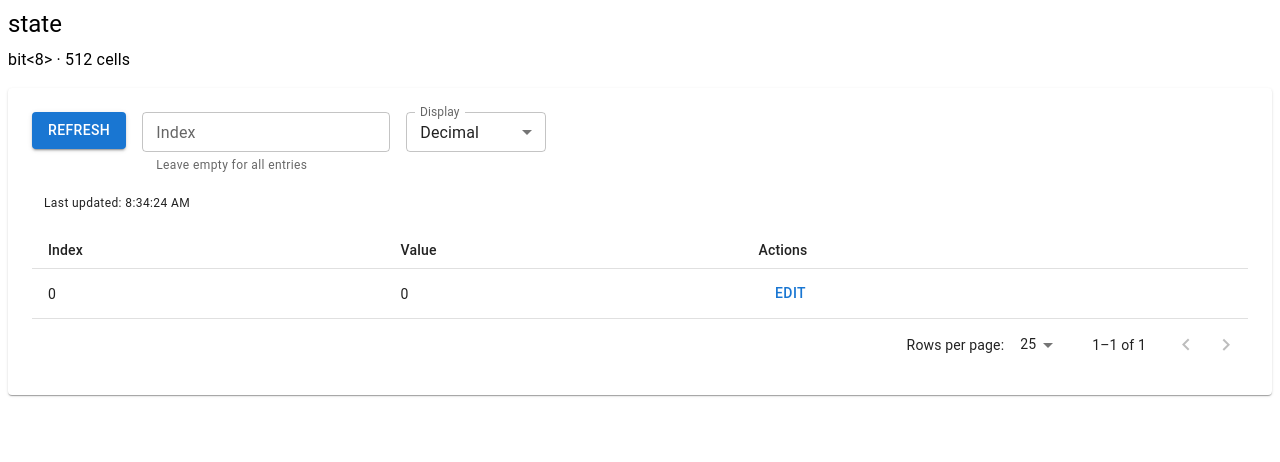
Test: indexed resources › rejects overflow before issuing a write
Click the button "Edit" at (790, 294), box [758, 275, 822, 312]
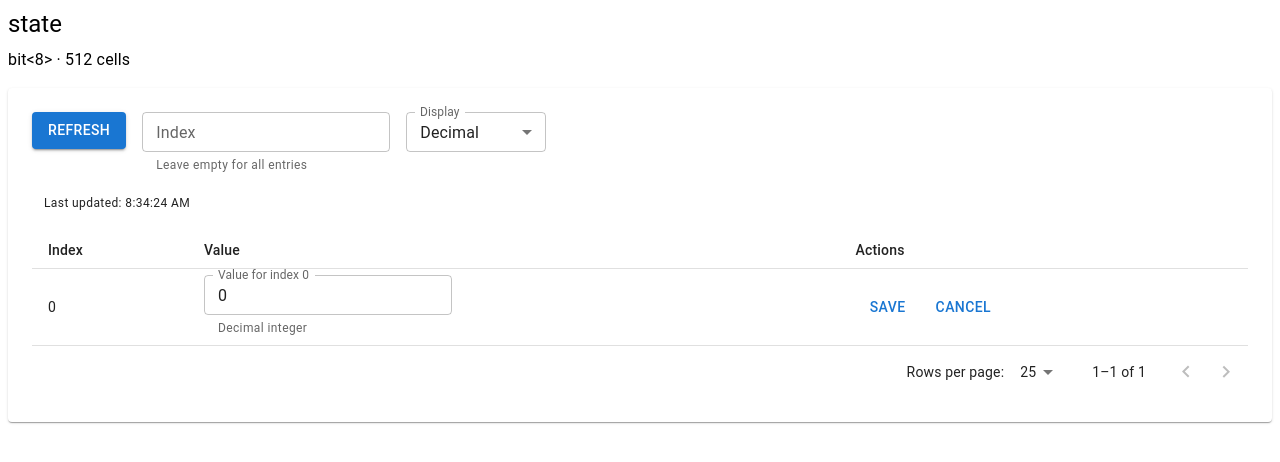
Replace the text in the field labelled "Value for index 0" with "256" at (328, 295), box [204, 275, 452, 315]
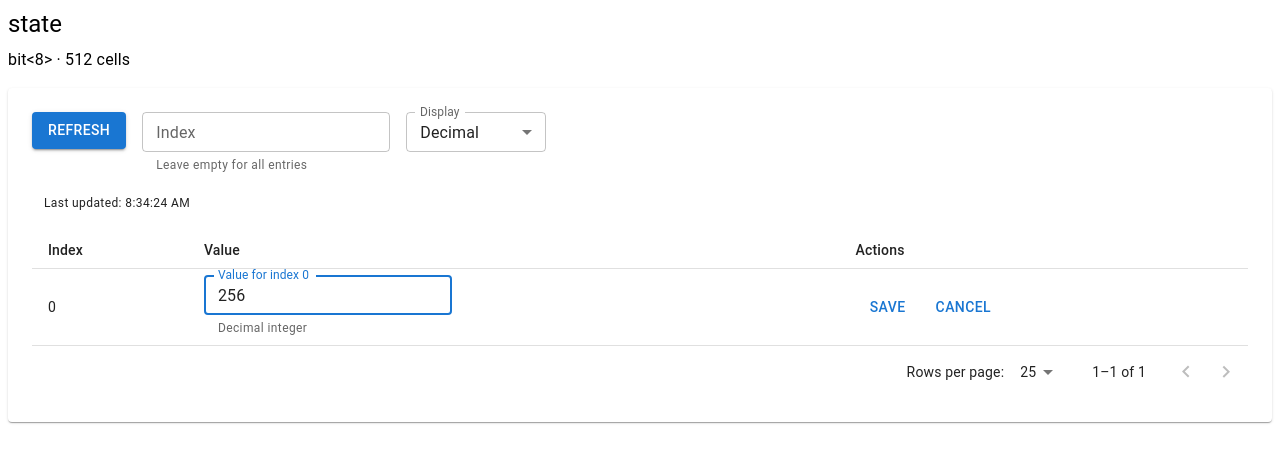
Click the button "Save" at (888, 307), box [856, 289, 920, 326]
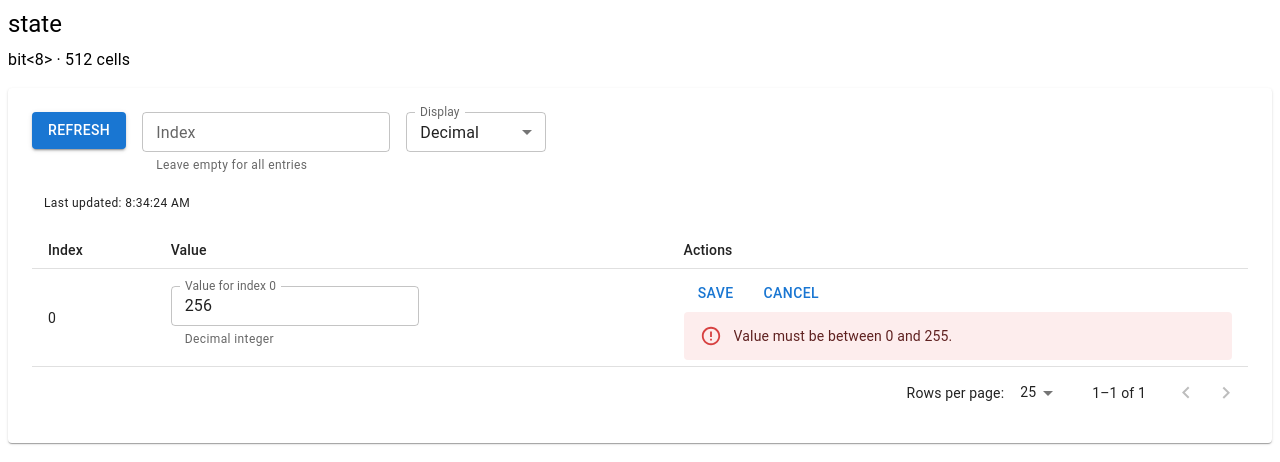
Check: the message shows "between 0 and 255", box [734, 328, 952, 344]
